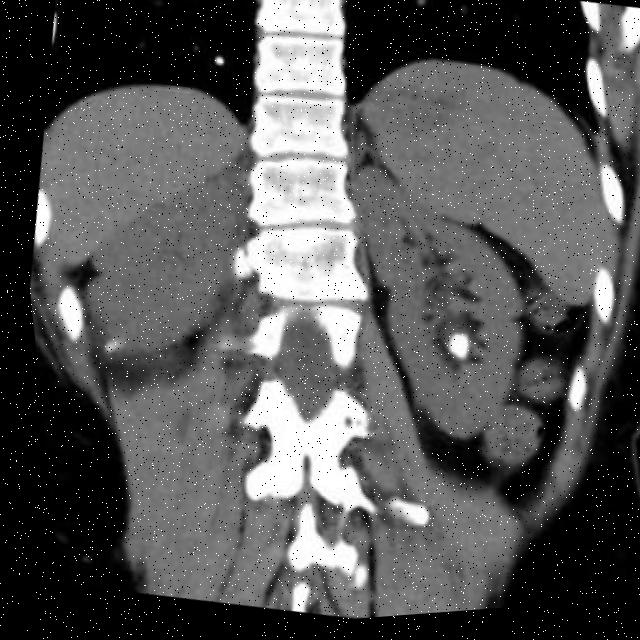Tas_Var: (433, 331, 479, 375), (91, 332, 119, 363)
